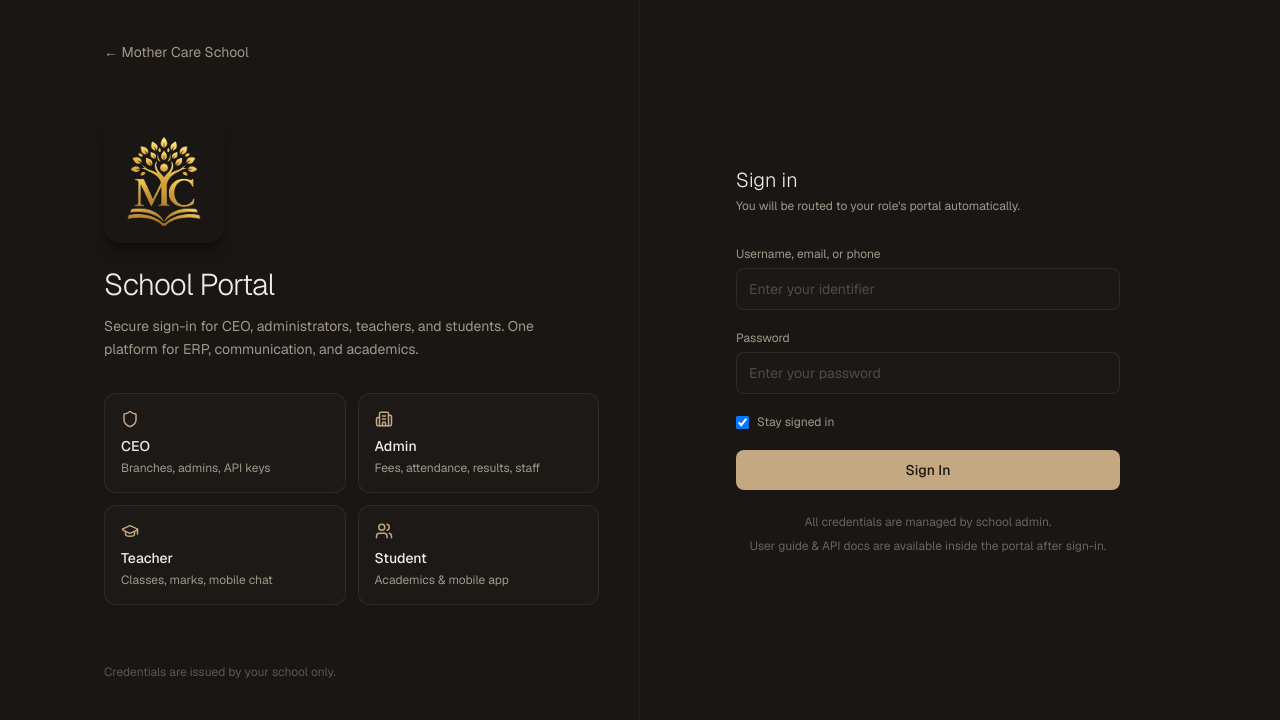
Test: Auth Navigation — Login Page › disables submit button while loading
In the field with placeholder "Enter your identifier": (928, 289) left=736, top=268, right=1120, bottom=310, type "admin"
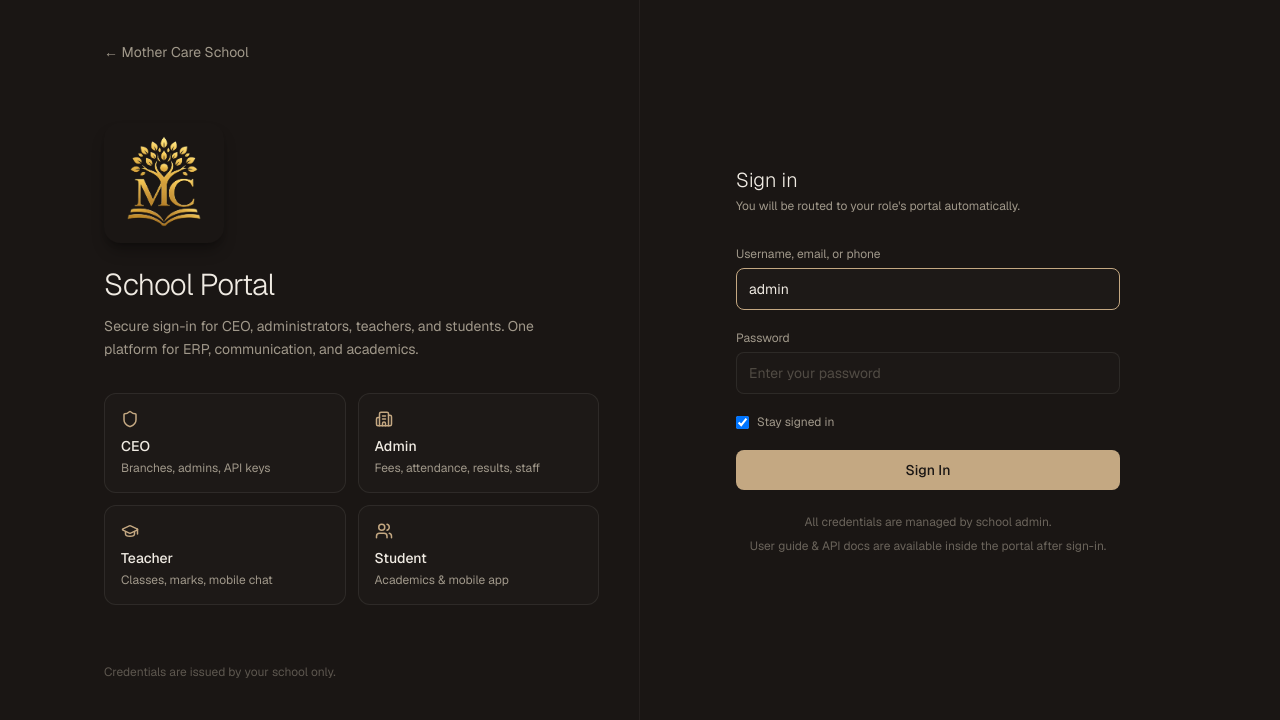
In the password field with placeholder "Enter your password": (928, 373) left=736, top=352, right=1120, bottom=394, type "admin123"
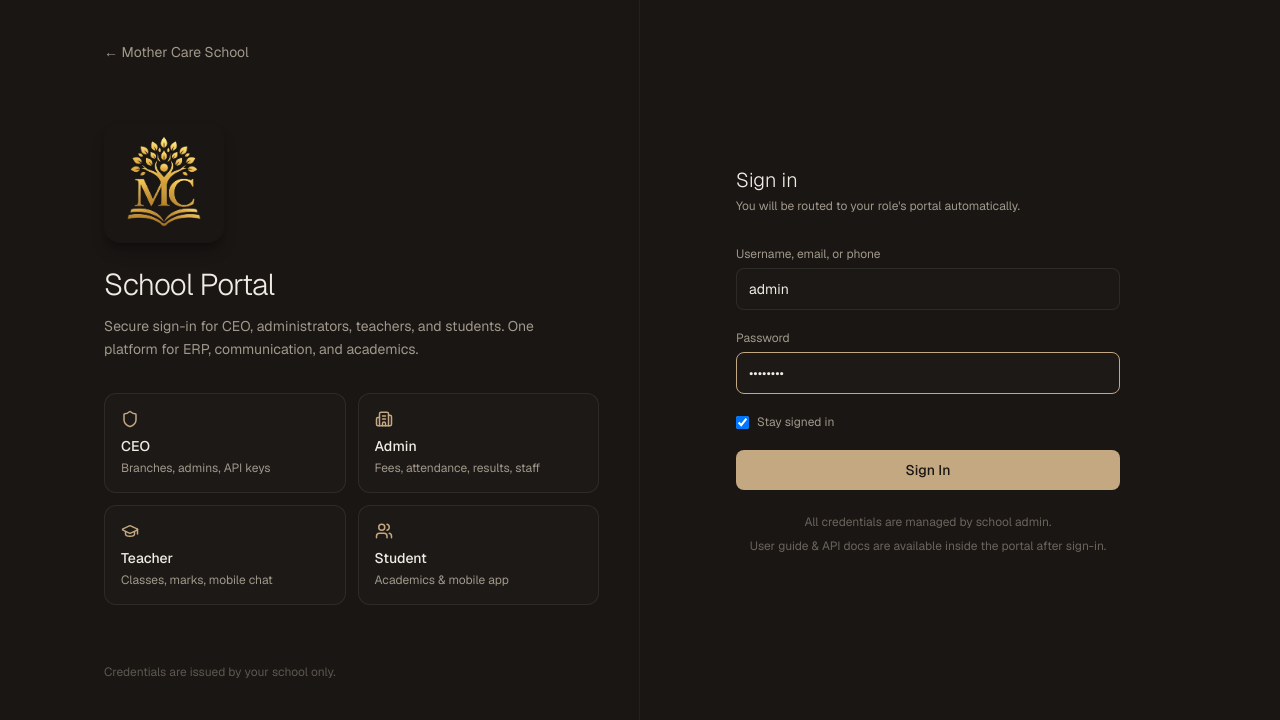
Click the button "Sign In": (928, 470) left=736, top=450, right=1120, bottom=490
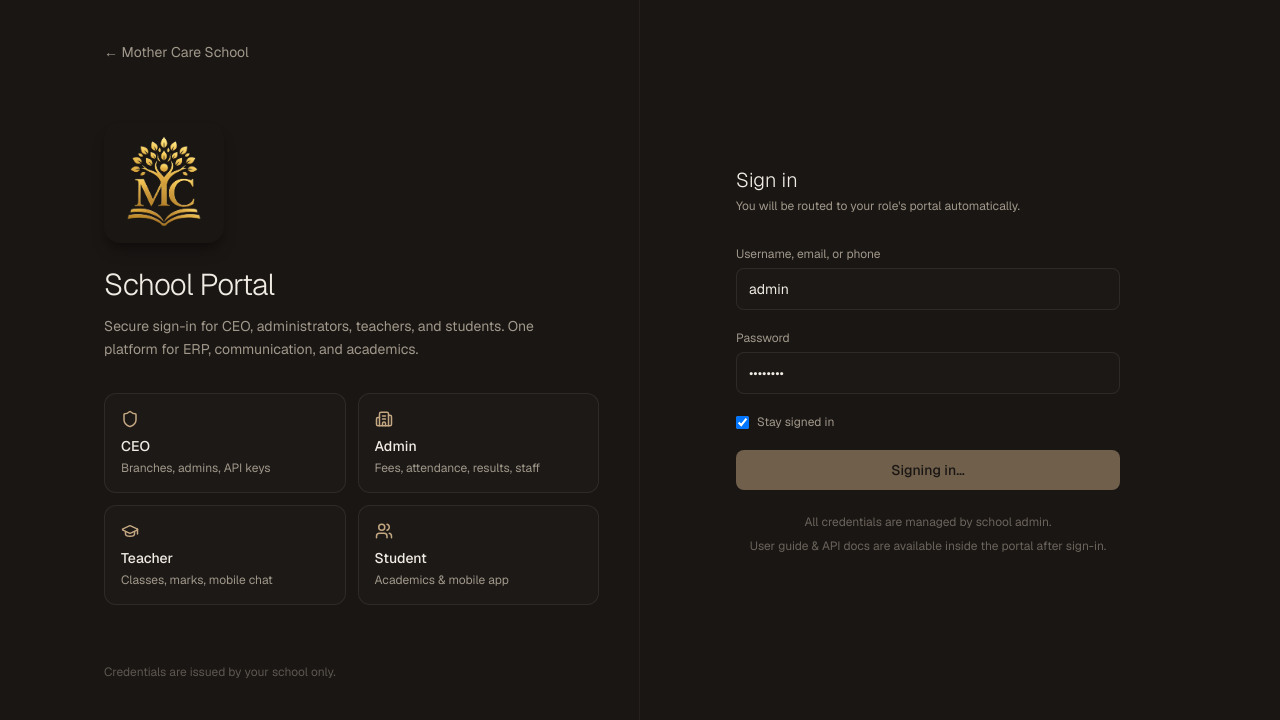
expect the button "Signing in…" is disabled: met, box left=736, top=450, right=1120, bottom=490
